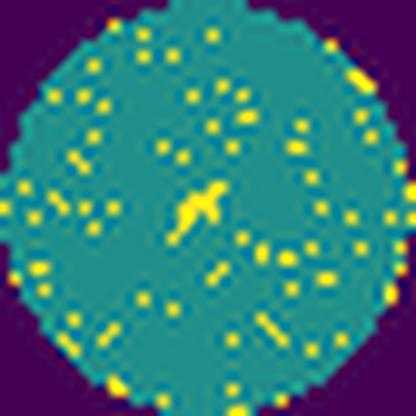Center: (163, 176, 235, 248)
